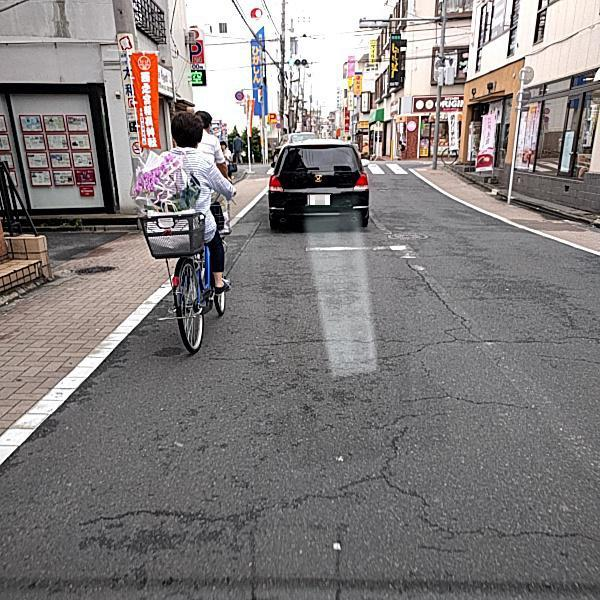D20: (87, 276, 599, 559)
D44: (408, 252, 599, 463)
